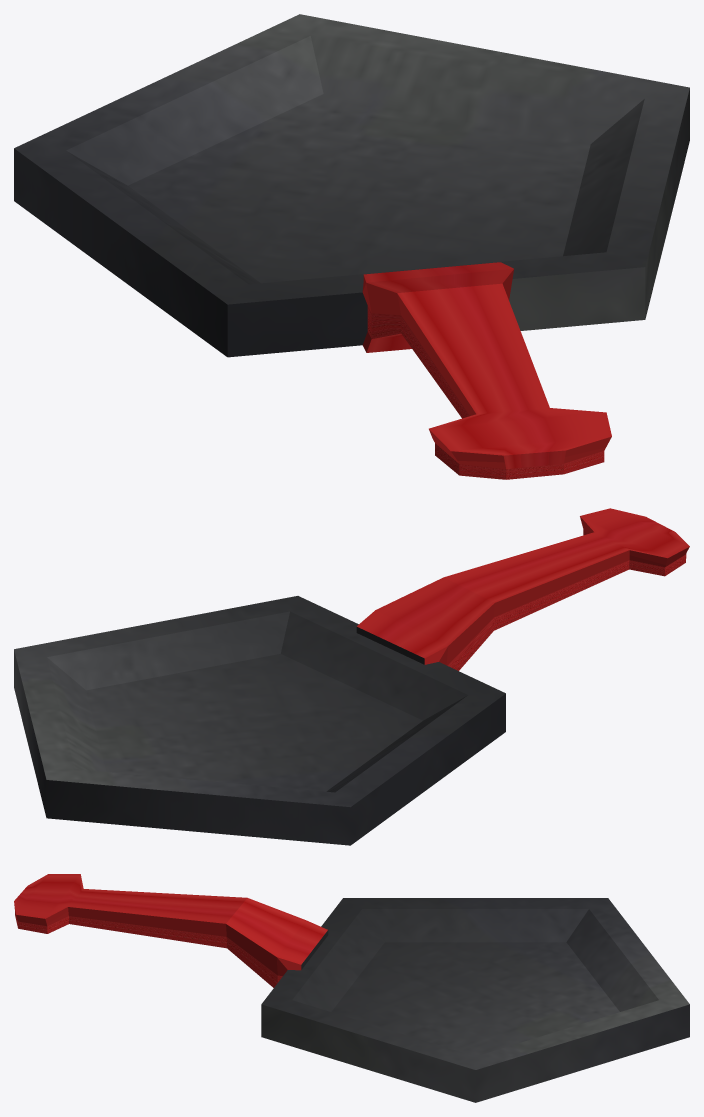
Rendered from pan.FBX.
3 renders of one model, top to bottom at view 1: azimuth 30°, elevation 25°; view 2: azimuth 150°, elevation 25°; view 3: azimuth 270°, elevation 25°, orthographic. The views are drawn at different scales.
Visible parts, largest first — view 1: Cylinder001, Object001; view 2: Cylinder001, Object001; view 3: Cylinder001, Object001.
Part boxes in pixels (x1,y1,x2,y2): Cylinder001: [14, 14, 689, 357]; Object001: [362, 262, 611, 479]; Cylinder001: [14, 596, 505, 845]; Object001: [357, 508, 689, 670]; Cylinder001: [261, 898, 689, 1102]; Object001: [14, 874, 327, 987].
Size of the model in its own units: 118 by 19.2 by 192.
Materials: 2 (2 with a texture image).
